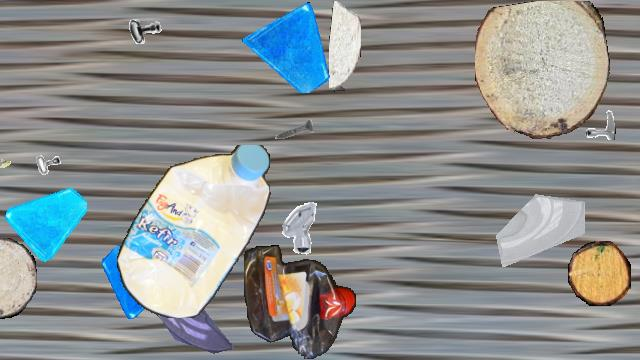glass: (492, 174, 584, 266), (242, 1, 334, 93), (149, 275, 233, 359), (5, 180, 87, 262), (102, 243, 178, 319)
metal: (268, 197, 326, 255), (23, 151, 73, 201), (574, 98, 616, 140), (273, 108, 315, 150), (0, 141, 29, 201), (125, 9, 165, 49)
plastic: (116, 145, 272, 317), (244, 245, 356, 359)
wood: (475, 1, 609, 139), (568, 241, 630, 305), (0, 238, 37, 318), (329, 1, 361, 91)
